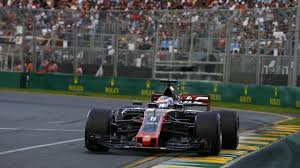FormulaOneCar: (83, 77, 246, 159)
